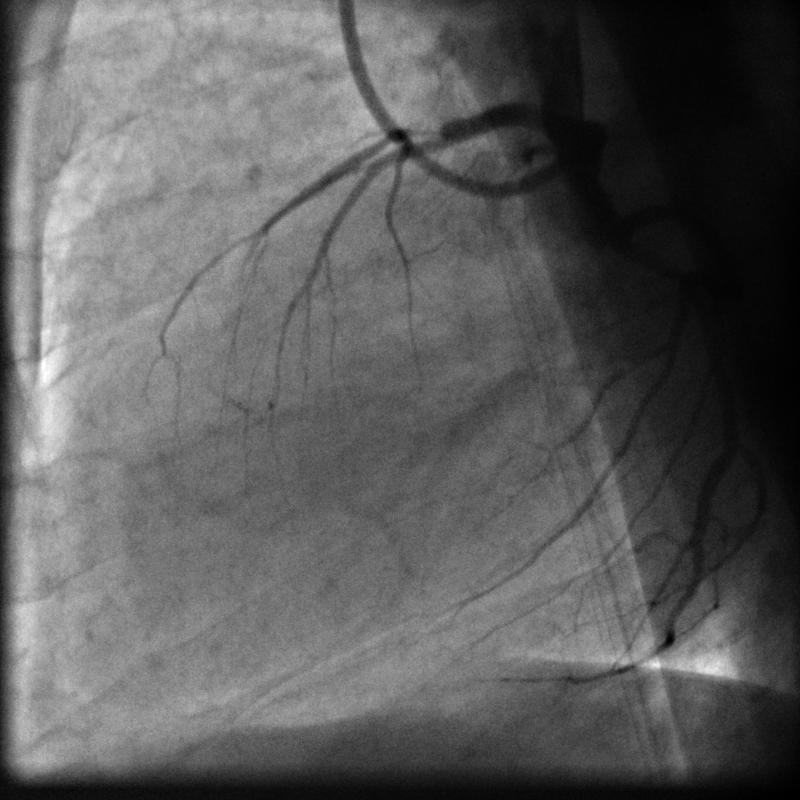Stenosis: (385, 114, 453, 158)
